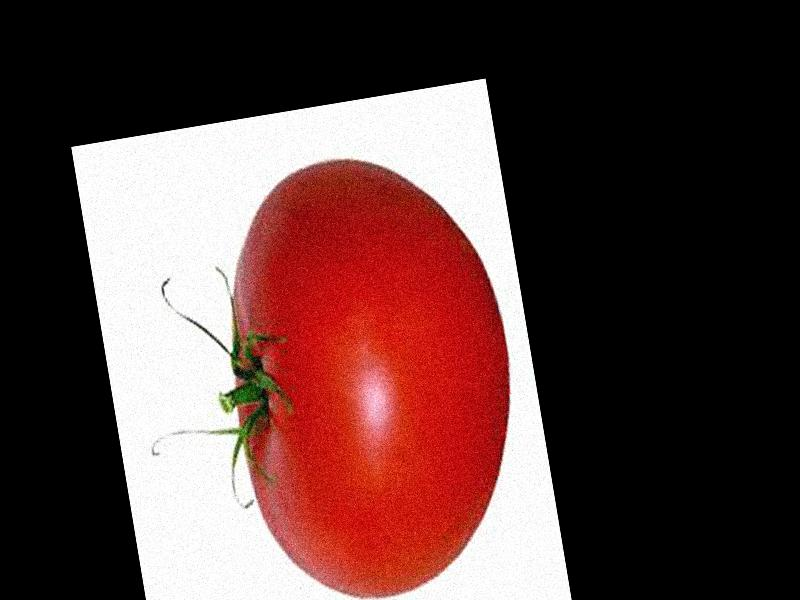Tomato: (198, 138, 542, 600)
